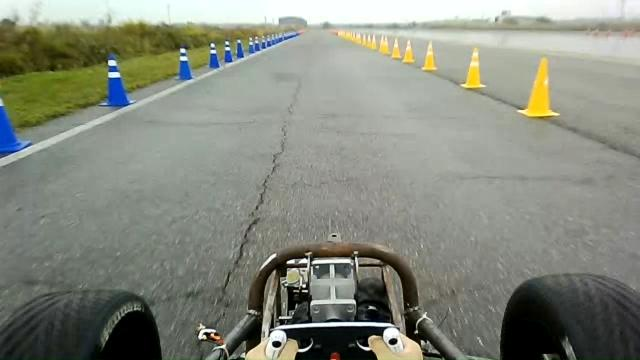blue cone: (98, 53, 136, 107), (0, 97, 32, 155), (174, 45, 193, 81), (208, 41, 220, 69), (223, 40, 233, 62)
yellow cone: (516, 56, 560, 117), (460, 47, 486, 89), (422, 40, 437, 71), (402, 39, 415, 63), (391, 37, 402, 59), (370, 34, 377, 50)
